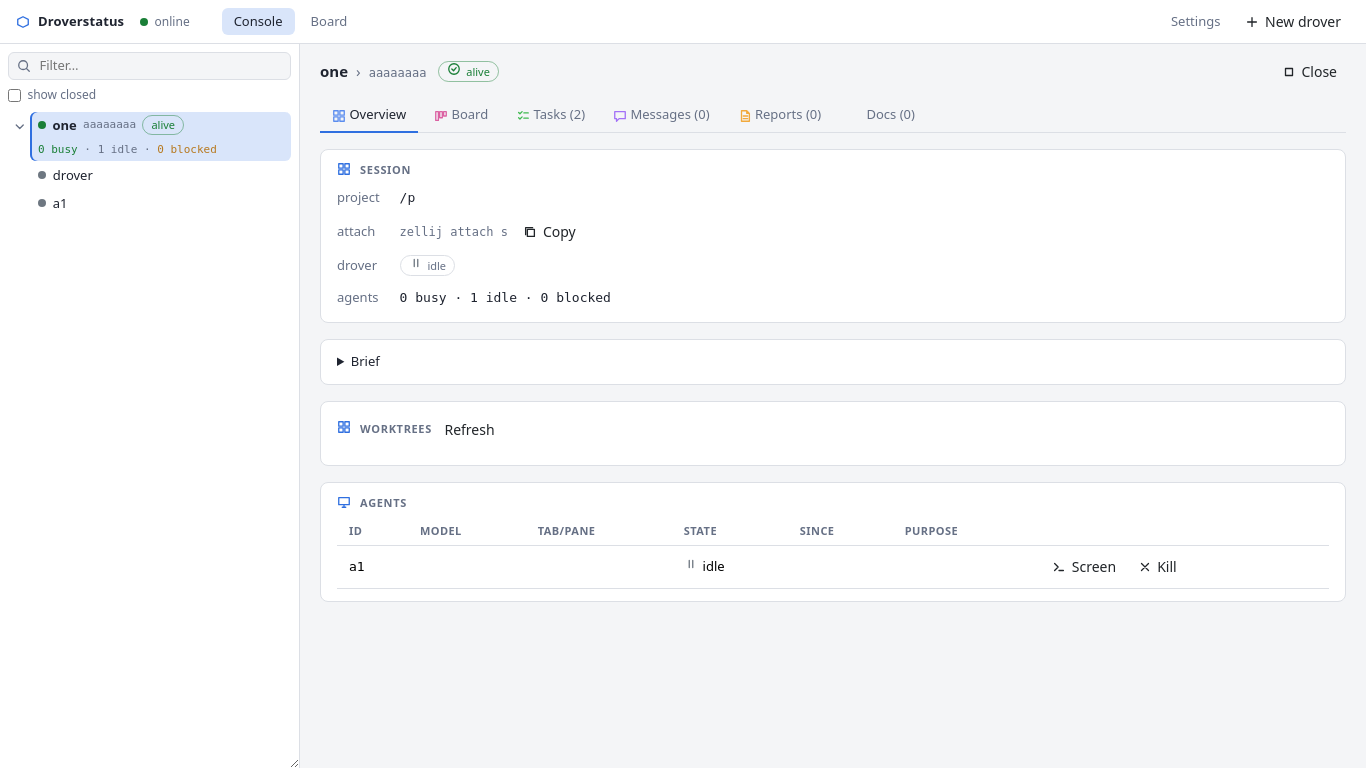
Test: App navigation › console/board nav toggles views and URL
Click the link with test id "nav-board" at (329,21), box [311,12,347,30]
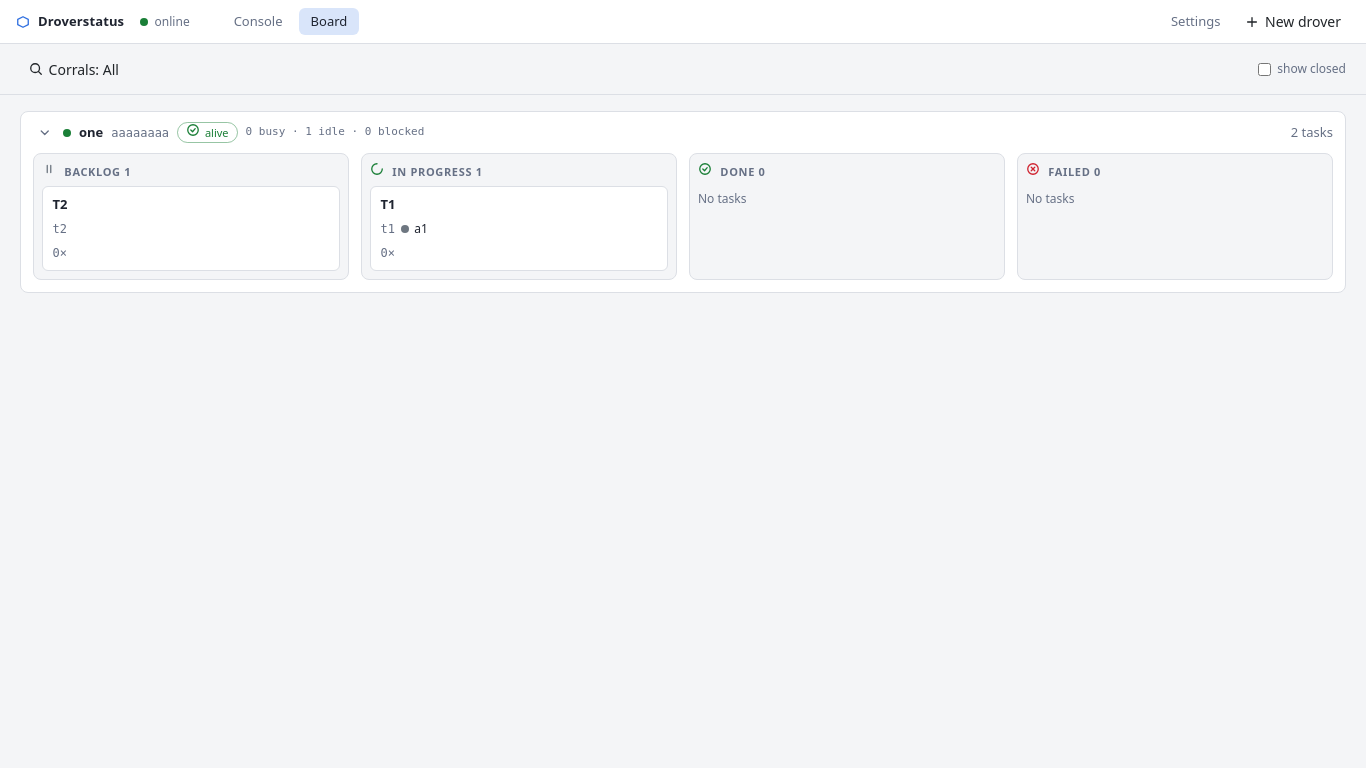
Expected: the element with test id "board" that starts with "Corrals:" is shown, [0,44,1365,293]
Click the link with test id "nav-console" at (258,21), box [234,12,283,30]
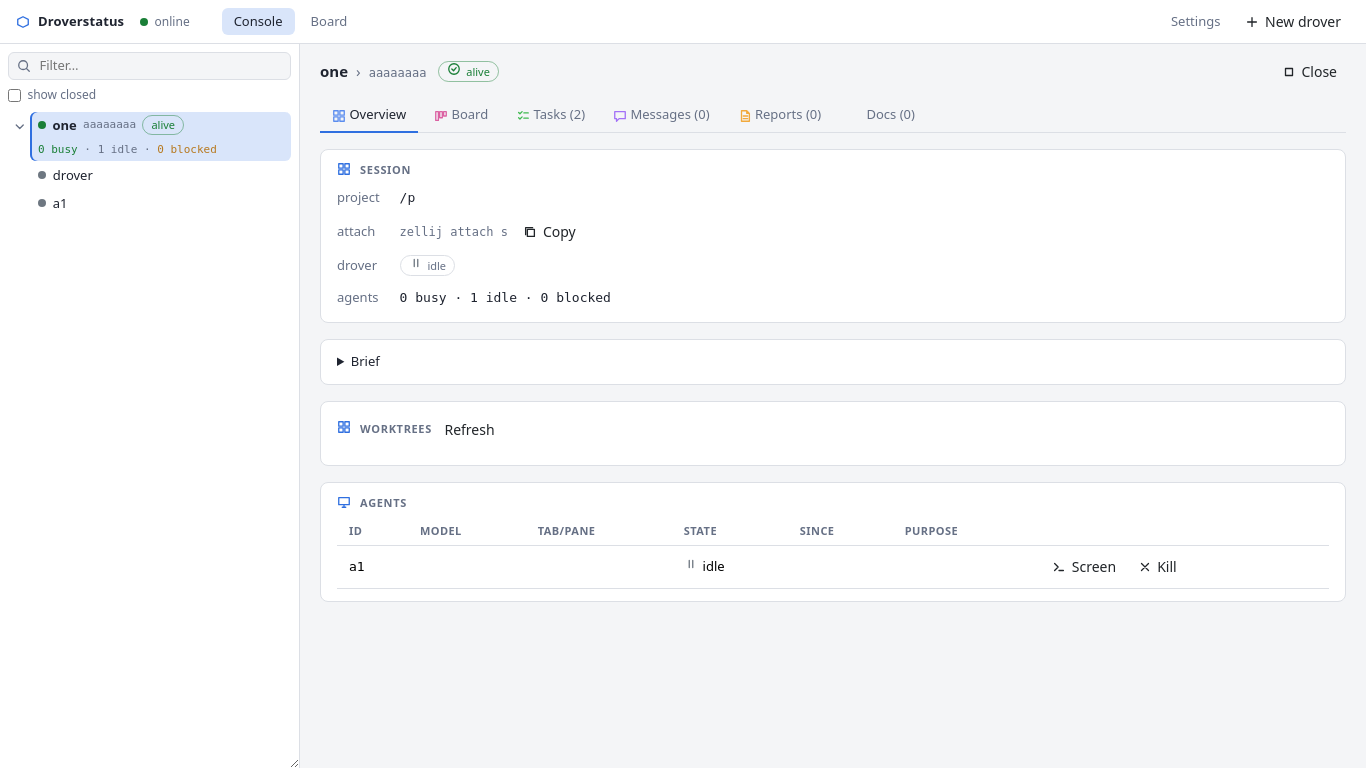
Expected: the element with test id "corral-view" is shown
